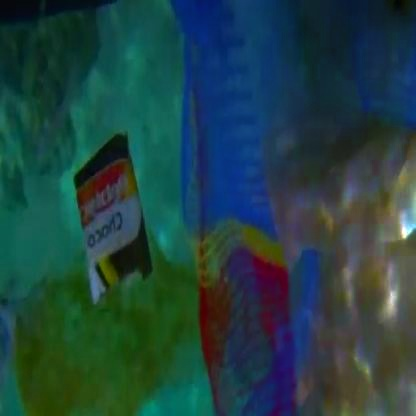plastic: (194, 52, 403, 398), (65, 134, 161, 320)
